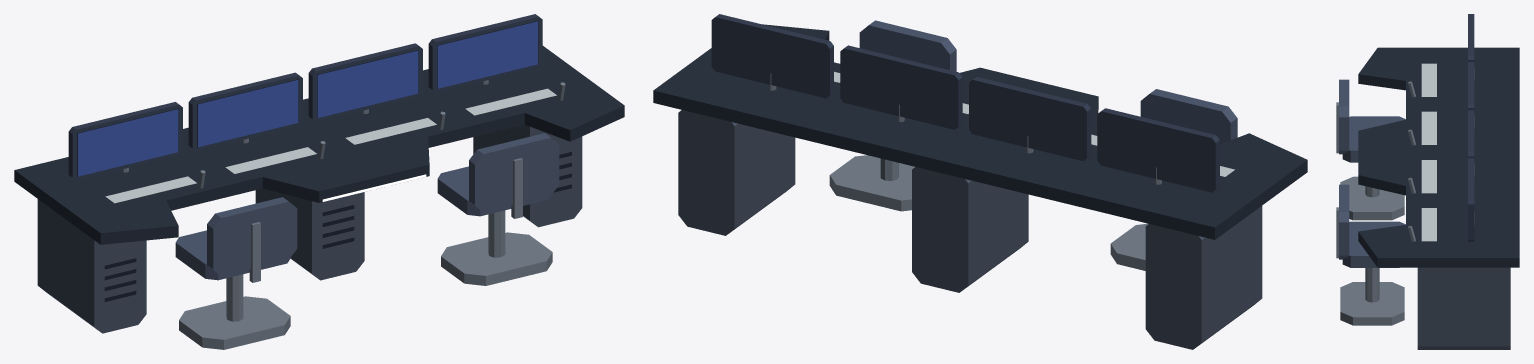
The model's file is fus_main_control_desk.glb.
3 views of the same model, side by side, from view 1: azimuth 30°, elevation 25°; view 2: azimuth 150°, elevation 25°; view 3: azimuth 270°, elevation 25° (orthographic). The views are drawn at different scales.
Visible parts, largest first — view 1: curved_operator_worktop, bridge_pedestal, operator_back, back_spine, print, print.001, bezel, keybed, cooling_louver; view 2: bridge_pedestal, curved_operator_worktop, bezel, operator_back, back_spine; view 3: curved_operator_worktop, bridge_pedestal, back_spine, operator_back, keybed, bezel.
Boxes of the visible parts, <box> form: curved_operator_worktop: <box>14,46,624,244</box>; bridge_pedestal: <box>37,124,582,333</box>; operator_back: <box>175,133,559,280</box>; back_spine: <box>122,80,565,349</box>; print: <box>78,50,418,176</box>; print.001: <box>198,21,537,147</box>; bezel: <box>68,14,542,180</box>; keybed: <box>105,88,556,203</box>; cooling_louver: <box>77,21,571,301</box>; bridge_pedestal: <box>678,110,1262,349</box>; curved_operator_worktop: <box>653,24,1307,239</box>; bezel: <box>711,14,1219,192</box>; operator_back: <box>859,20,1237,143</box>; back_spine: <box>768,73,1161,270</box>; curved_operator_worktop: <box>1358,47,1519,267</box>; bridge_pedestal: <box>1417,267,1510,349</box>; back_spine: <box>1336,67,1474,325</box>; operator_back: <box>1339,79,1405,267</box>; keybed: <box>1421,63,1436,241</box>; bezel: <box>1468,14,1474,241</box>.
Bounding box in the file's own units: 3.8 × 1.25 × 1.4.
